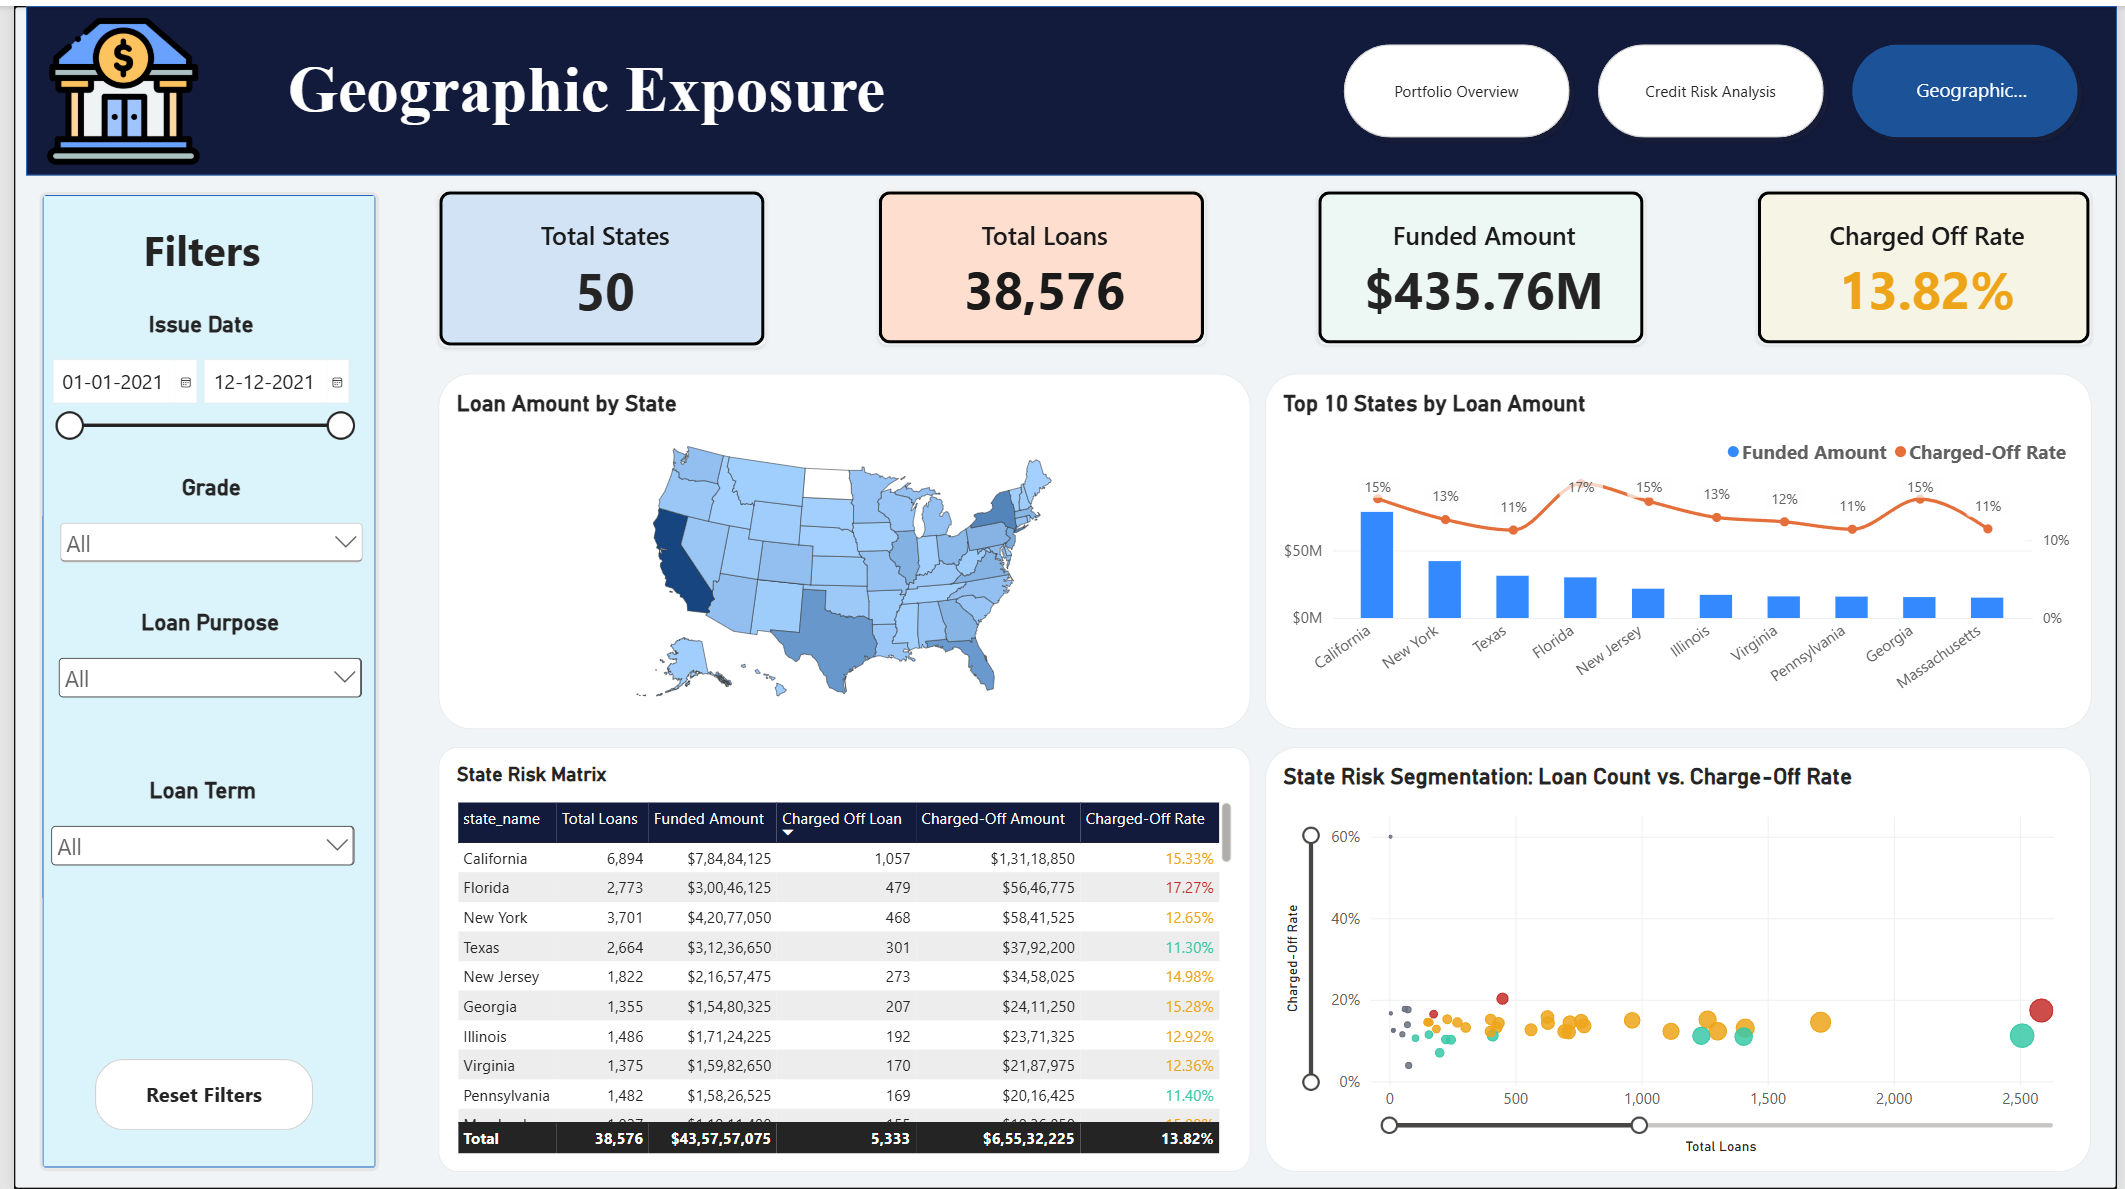

The dashboard page shown, as its layout file describes it:
{"tool":"powerbi","page":{"name":"Geographic Exposure","canvas":[1920,1080],"ordinal":2},"visuals":[{"type":"shape","box":[10.8,0,1909.2,154.8],"z":0},{"type":"shape","box":[23.7,170.2,310.2,893.9],"z":1000},{"type":"image","box":[10.8,7.7,178.1,139.4],"z":2000},{"type":"cardVisual","fields":{"Data":["Calculated_Measures.Total Tests"]},"box":[387.9,167.8,299.1,143.2],"z":3000},{"type":"cardVisual","fields":{"Data":["Calculated_Measures.8_Charged off Share"]},"box":[1591.3,168.9,305.4,141.1],"z":4000},{"type":"shapeMap","title":"Loan Amount by State","fields":{"Category":["analytics Dim_State.state_name"],"Value":["Calculated_Measures.Funded Amount"]},"box":[387.9,335.3,741.3,324.4],"z":4000,"group":"g1"},{"type":"textbox","box":[207.8,43,610.7,69.9],"z":5000},{"type":"slicer","title":"Issue Date","fields":{"Values":["analytics Dim_Date.Date"]},"box":[28,278.3,287,148.8],"z":6000},{"type":"slicer","title":"Loan Purpose","fields":{"Values":["analytics Dim_LoanPurpose.purpose"]},"box":[36.2,551,287.1,109],"z":7000},{"type":"actionButton","title":"Reset Filter","box":[73.3,961.8,199.1,65],"z":8000},{"type":"slicer","title":"Grade","fields":{"Values":["analytics Dim_CreditGrade.grade"]},"box":[37.2,427.4,286.5,123.9],"z":9000},{"type":"textbox","box":[56.6,197,230.5,81.7],"z":10000},{"type":"scatterChart","title":"State Risk Segmentation: Loan Count vs. Charge-Off Rate","fields":{"Category":["analytics Dim_State.state_name"],"Size":["Calculated_Measures.Funded Amount"],"X":["Calculated_Measures.Total Loans"],"Y":["Calculated_Measures.Charged Off Rate"]},"box":[1142.7,676.6,754,387.9],"z":11000},{"type":"lineStackedColumnComboChart","title":"Top 10 States by Loan Amount","fields":{"Category":["analytics Dim_State.state_name"],"Y":["Calculated_Measures.Funded Amount"],"Y2":["Calculated_Measures.Charged Off Rate"]},"box":[1142.1,335.5,754.5,324.6],"z":12000},{"type":"slicer","title":"Loan Term","fields":{"Values":["analytics Fact_Loan.term"]},"box":[29.4,704.5,287.1,109],"z":13000},{"type":"cardVisual","fields":{"Data":["Calculated_Measures.1_Total Loans"]},"box":[789,168.7,299.1,141.4],"z":14000},{"type":"cardVisual","fields":{"Data":["Calculated_Measures.2_Funded Amount"]},"box":[1190.2,168.7,299.1,141.4],"z":15000},{"type":"group","id":"g1","title":"Group 1","box":[387.9,335.3,741.3,324.4],"z":16000},{"type":"tableEx","title":"State Risk Matrix","fields":{"Values":["analytics Dim_State.state_name","Calculated_Measures.Total Loans","Calculated_Measures.Funded Amount","Calculated_Measures.chargedoffloans","Calculated_Measures.Charged Off Amount","Calculated_Measures.Charged Off Rate"]},"box":[387.1,676.6,741.3,387.9],"z":17000},{"type":"pageNavigator","box":[1204.6,26.3,690.6,103.3],"z":18000}]}

Visuals, with their boxes in screenshot pixels (x1, y1, x2, y2), scaled from the page's 1920x1080 canvas onto the 2125x1189 screenshot:
shape: x1=12 y1=0 x2=2124 y2=170
shape: x1=26 y1=187 x2=370 y2=1171
image: x1=12 y1=8 x2=209 y2=162
cardVisual - Calculated_Measures.Total Tests: x1=429 y1=185 x2=760 y2=342
cardVisual - Calculated_Measures.8_Charged off Share: x1=1761 y1=186 x2=2099 y2=341
"Loan Amount by State" shapeMap: x1=429 y1=369 x2=1250 y2=726
textbox: x1=230 y1=47 x2=906 y2=124
"Issue Date" slicer: x1=31 y1=306 x2=349 y2=470
"Loan Purpose" slicer: x1=40 y1=607 x2=358 y2=727
"Reset Filter" actionButton: x1=81 y1=1059 x2=301 y2=1130
"Grade" slicer: x1=41 y1=471 x2=358 y2=607
textbox: x1=63 y1=217 x2=318 y2=307
"State Risk Segmentation: Loan Count vs. Charge-Off Rate" scatterChart: x1=1265 y1=745 x2=2099 y2=1172
"Top 10 States by Loan Amount" lineStackedColumnComboChart: x1=1264 y1=369 x2=2099 y2=727
"Loan Term" slicer: x1=33 y1=776 x2=350 y2=896
cardVisual - Calculated_Measures.1_Total Loans: x1=873 y1=186 x2=1204 y2=341
cardVisual - Calculated_Measures.2_Funded Amount: x1=1317 y1=186 x2=1648 y2=341
"Group 1" group: x1=429 y1=369 x2=1250 y2=726
"State Risk Matrix" tableEx: x1=428 y1=745 x2=1249 y2=1172
pageNavigator: x1=1333 y1=29 x2=2098 y2=143
